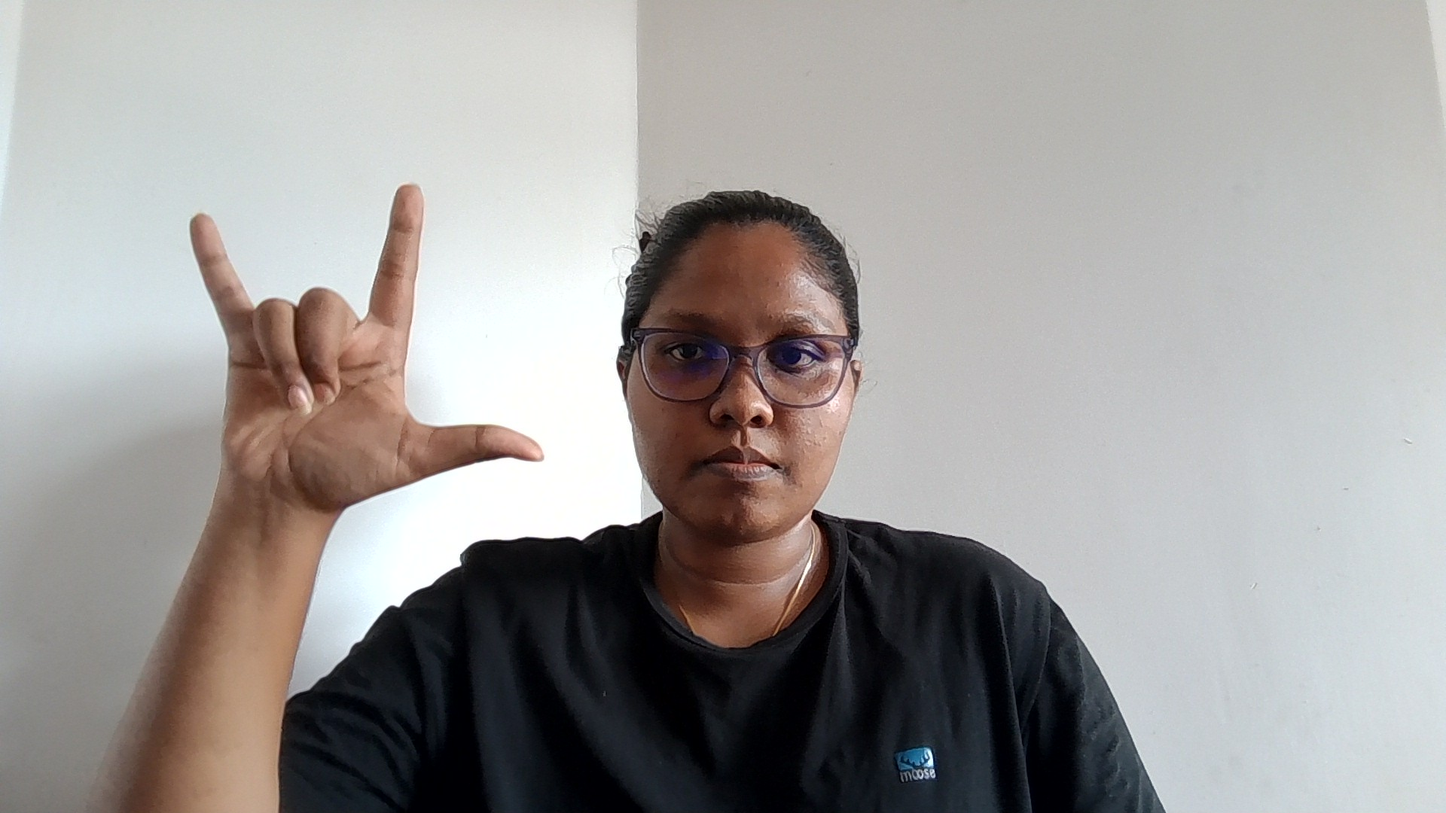I Love You: (88, 127, 547, 521)
